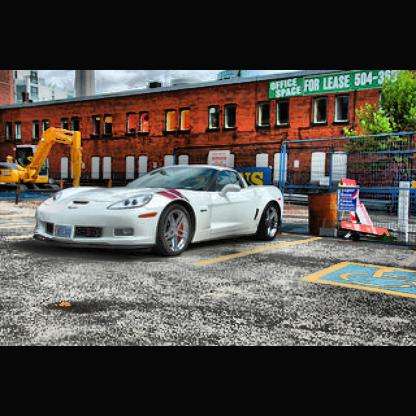Chevrolet Corvette Ron Fellows Edition Z06 2007: (39, 164, 288, 257)
